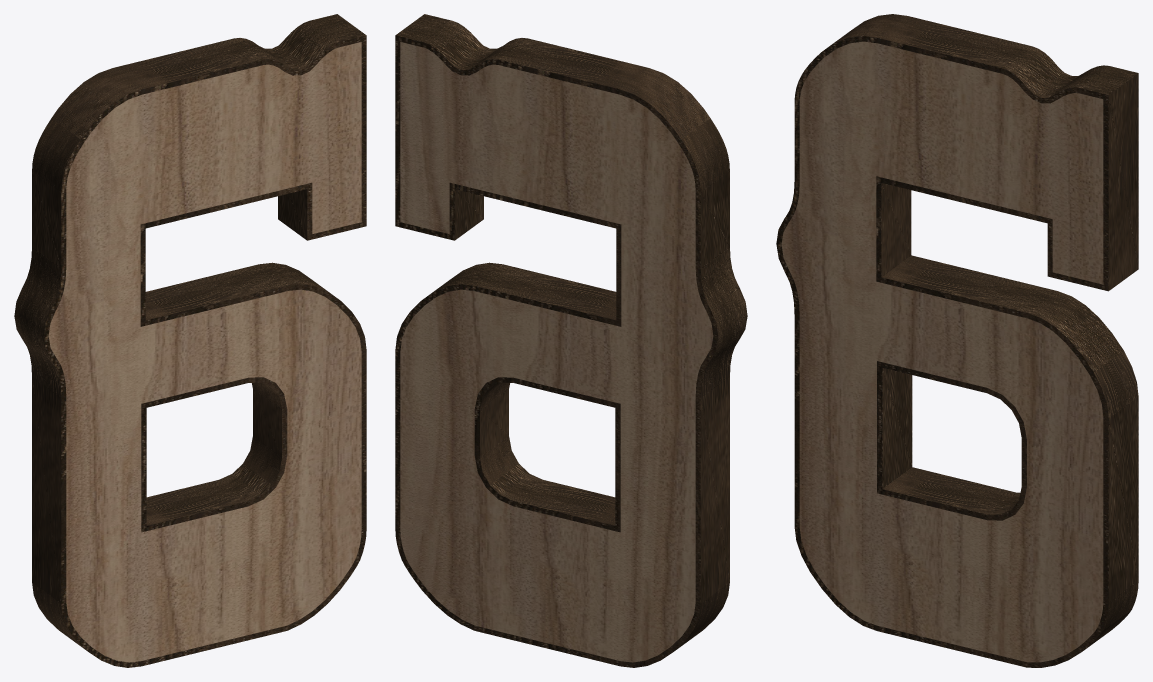
3 views of the same model, side by side, from view 1: azimuth 30°, elevation 25°; view 2: azimuth 150°, elevation 25°; view 3: azimuth 330°, elevation 25° (orthographic). The views are drawn at different scales.
Visible parts, largest first — view 1: 6, 6_outline; view 2: 6, 6_outline; view 3: 6, 6_outline.
Part boxes in pixels (x1,y1,x2,y2): 6: (48,42,361,662); 6_outline: (14,14,366,667); 6: (400,42,713,662); 6_outline: (395,14,747,667); 6: (781,41,1103,662); 6_outline: (776,14,1138,667).
Bounding box in the file's own units: 63.84 × 109 × 10.
Materials: 2 (2 with a texture image).
